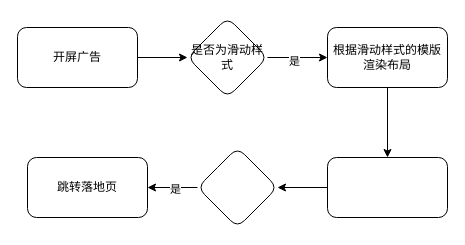
Some shapes in this 465 by 245 pixel diagram are drawn without their labels. Here are the shapes that lost their labels. From the top down, the box of each, then its label:
(196, 146, 278, 228): 是否符合跳转条件
(326, 156, 448, 218): 注册滑动代理,监听用户行为
